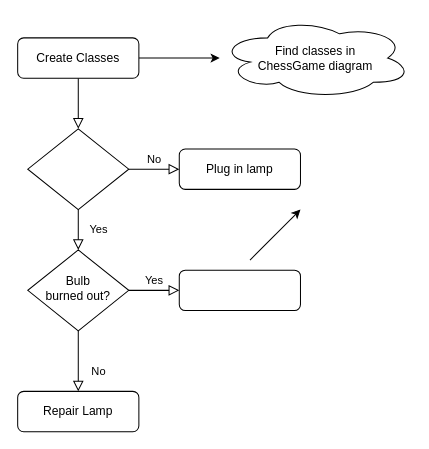
Some shapes in this 429 by 449 pixel diagram are drawn without their labels. The shapes that lost their labels are listed below. From the top down, each one's centre as x and y in pixels, then its label:
At [78,169]: "Lamp plugged in?".
At [239,290]: "Replace Bulb".
